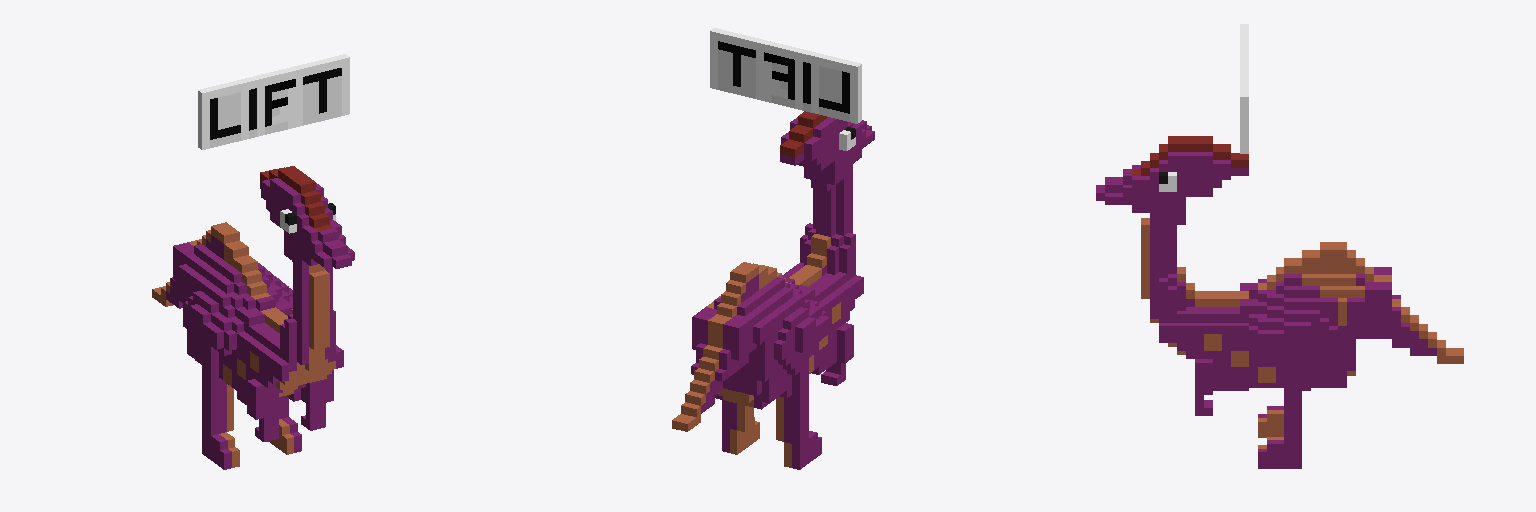
3 views of the same model, side by side, from view 1: azimuth 30°, elevation 25°; view 2: azimuth 150°, elevation 25°; view 3: azimuth 270°, elevation 25° (orthographic).
Parts seen in each view (by area): view 1: Matrix_29; view 2: Matrix_29; view 3: Matrix_29.
Boxes of the visible parts, box(x1,y1,x2,y2) form: Matrix_29: box(152, 54, 354, 469); Matrix_29: box(672, 28, 874, 469); Matrix_29: box(1096, 24, 1463, 468).
Bounding box in the file's own units: 19 × 48 × 41.
Materials: 1 (1 with a texture image).